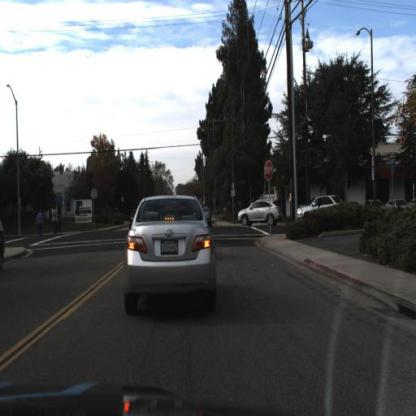car: (125, 194, 213, 308), (296, 193, 343, 221), (239, 198, 280, 228), (297, 194, 341, 219)
pedestrian: (37, 206, 46, 241), (51, 206, 60, 237), (50, 205, 58, 236)
